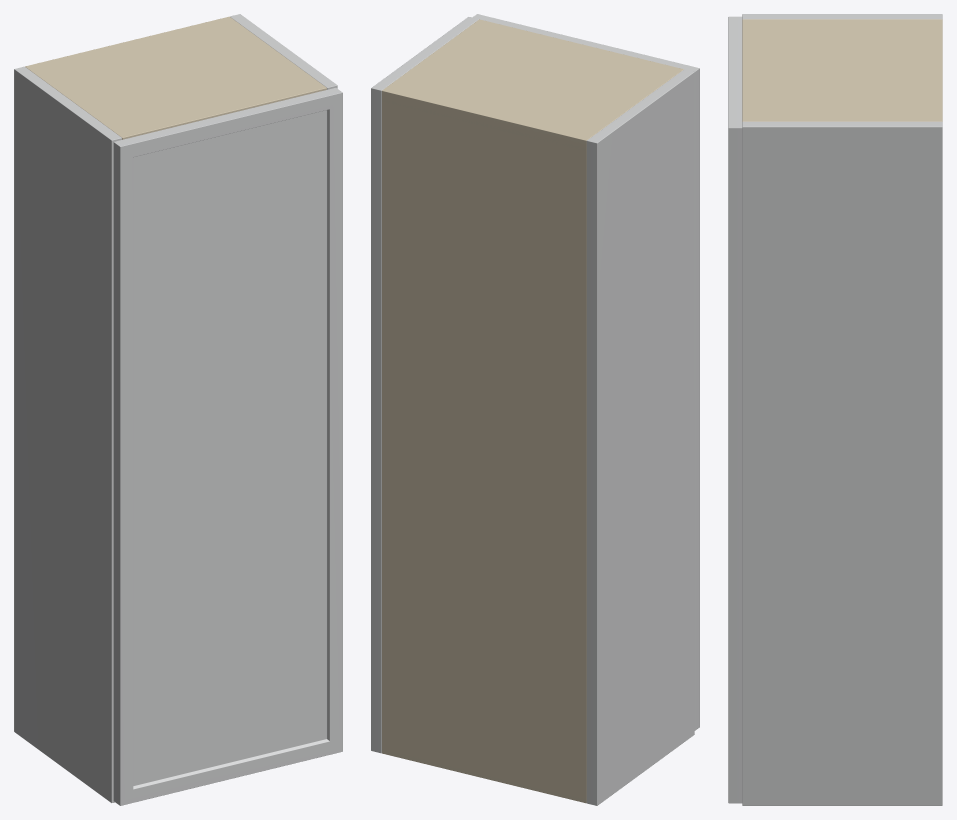
Rendered from oppein-ply-ssw-w1542.glb.
3 renders of one model, left to right at view 1: azimuth 30°, elevation 25°; view 2: azimuth 150°, elevation 25°; view 3: azimuth 270°, elevation 25°, orthographic. The views are drawn at different scales.
Visible parts, largest first — view 1: Door, Cabinet side, Cabinet top, Cabinet side.001; view 2: Cabinet back, Cabinet side, Cabinet top, Cabinet side.001, Door, Cabinet bottom; view 3: Cabinet side.001, Cabinet top, Door, Cabinet side.
Boxes of the visible parts, bbox=[...] form: Door: bbox=[113, 87, 342, 805]; Cabinet side: bbox=[14, 66, 121, 802]; Cabinet top: bbox=[25, 16, 326, 139]; Cabinet side.001: bbox=[230, 14, 337, 89]; Cabinet back: bbox=[382, 91, 586, 802]; Cabinet side: bbox=[586, 69, 694, 805]; Cabinet top: bbox=[382, 19, 683, 150]; Cabinet side.001: bbox=[371, 17, 478, 753]; Door: bbox=[472, 14, 699, 730]; Cabinet bottom: bbox=[382, 749, 586, 803]; Cabinet side.001: bbox=[742, 121, 942, 805]; Cabinet top: bbox=[742, 19, 942, 121]; Door: bbox=[728, 16, 742, 803]; Cabinet side: bbox=[742, 14, 942, 19].
Size of the model in its own units: 0.381 by 1.07 by 0.3048.
